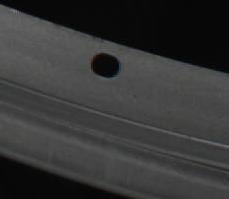holes: (89, 52, 121, 78)
